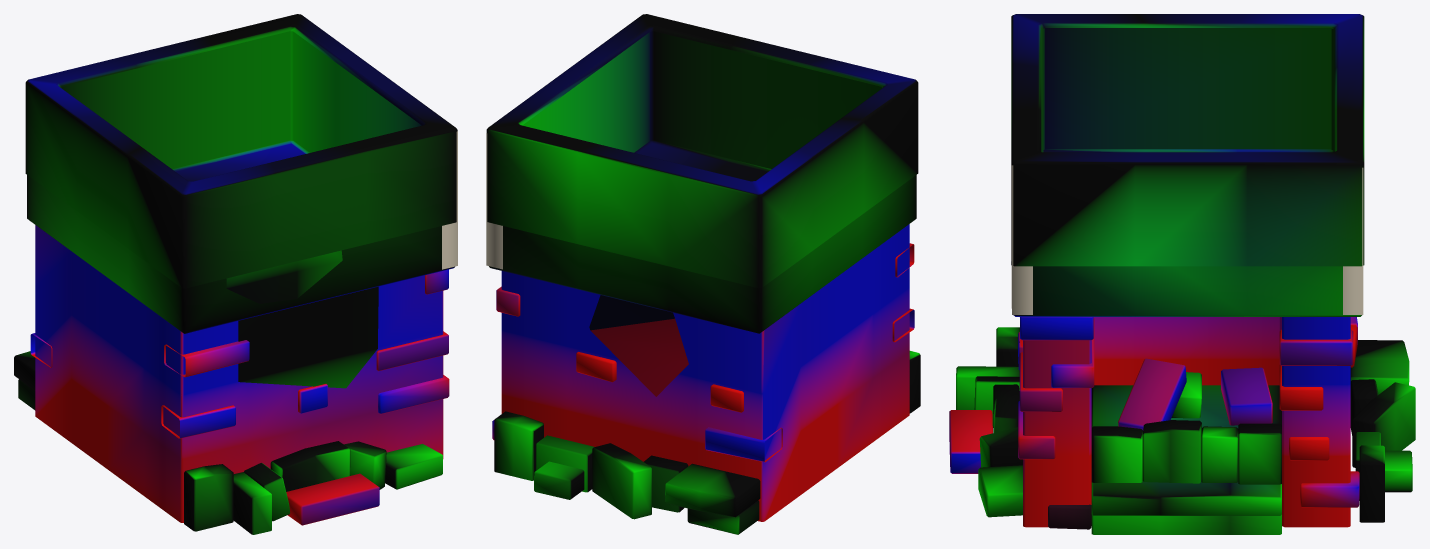
File: ExtraBuilding_G_Snaps004.FBX
3 renders of one model, left to right at view 1: azimuth 30°, elevation 25°; view 2: azimuth 150°, elevation 25°; view 3: azimuth 270°, elevation 25°, orthographic. The views are drawn at different scales.
Parts seen in each view (by area): view 1: Geometry_ExtraBuilding_G_LOD00, Geometry_Decal_B_LOD00, Geometry_Decal_C_LOD00, Geometry_Decal_A_LOD00; view 2: Geometry_ExtraBuilding_G_LOD00, Geometry_Decal_B_LOD00, Geometry_Decal_C_LOD00, Geometry_Decal_A_LOD00; view 3: Geometry_ExtraBuilding_G_LOD00, Geometry_Decal_B_LOD00, Geometry_Decal_A_LOD00.
Part boxes in pixels (bbox=[...]): Geometry_ExtraBuilding_G_LOD00: bbox=[14, 26, 454, 534]; Geometry_Decal_B_LOD00: bbox=[25, 14, 457, 288]; Geometry_Decal_C_LOD00: bbox=[226, 250, 378, 388]; Geometry_Decal_A_LOD00: bbox=[442, 131, 457, 269]; Geometry_ExtraBuilding_G_LOD00: bbox=[489, 26, 920, 534]; Geometry_Decal_B_LOD00: bbox=[486, 14, 918, 288]; Geometry_Decal_C_LOD00: bbox=[589, 295, 688, 396]; Geometry_Decal_A_LOD00: bbox=[486, 133, 502, 269]; Geometry_ExtraBuilding_G_LOD00: bbox=[949, 22, 1415, 534]; Geometry_Decal_B_LOD00: bbox=[1011, 14, 1364, 266]; Geometry_Decal_A_LOD00: bbox=[1011, 165, 1363, 314].
Size of what is drawn, in the model's own units: 92.04 by 100 by 114.
